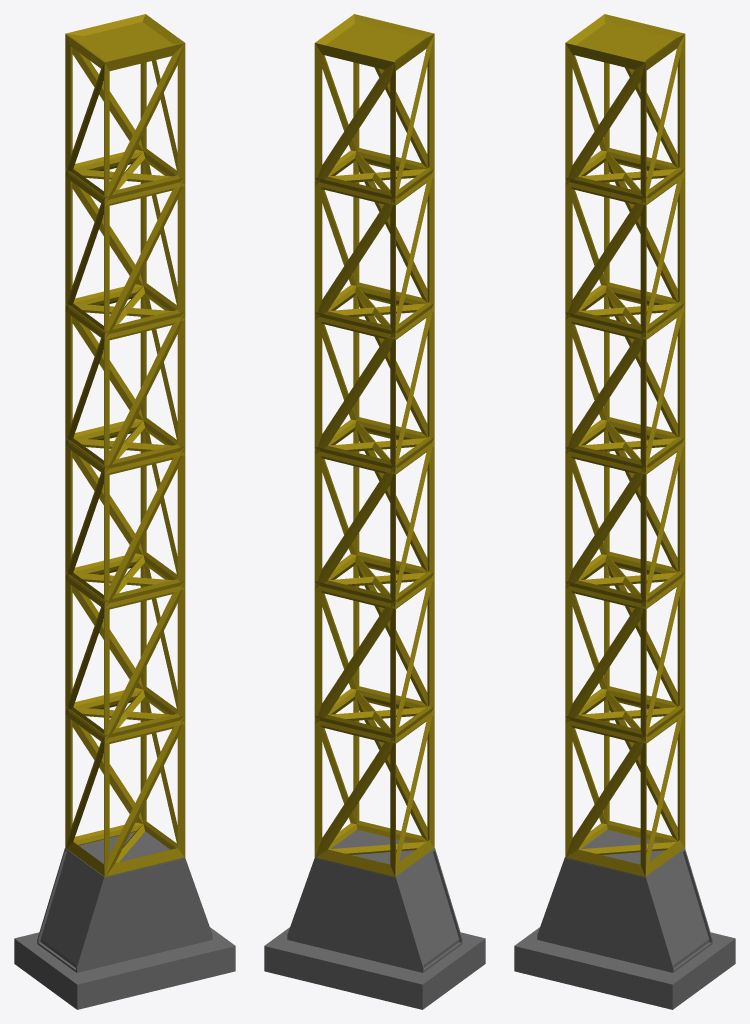
The model's file is Verticalbeam3.fbx.
The picture shows the model from 3 angles, left to right: view 1: azimuth 30°, elevation 25°; view 2: azimuth 150°, elevation 25°; view 3: azimuth 330°, elevation 25°; orthographic projection.
Visible parts, largest first — view 1: Cube.007; view 2: Cube.007; view 3: Cube.007.
Boxes of the visible parts, left/top/right/bottom form: Cube.007: left=14, top=14, right=235, bottom=1009; Cube.007: left=264, top=14, right=485, bottom=1009; Cube.007: left=514, top=14, right=735, bottom=1009.
Bounding box in the file's own units: 247 × 1381 × 170.
